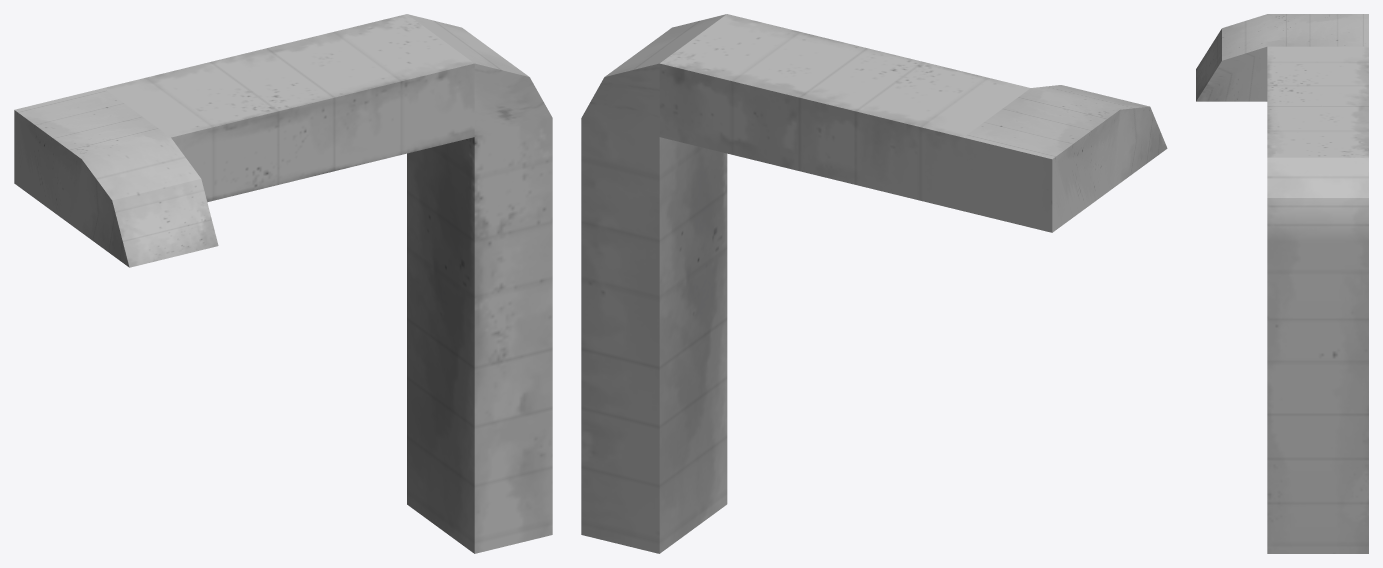
The model's file is BgMD_Tube_01_01.fbx.
3 renders of one model, left to right at view 1: azimuth 30°, elevation 25°; view 2: azimuth 150°, elevation 25°; view 3: azimuth 270°, elevation 25°, orthographic. The views are drawn at different scales.
Visible parts, largest first — view 1: pCube91; view 2: pCube91; view 3: pCube91.
Boxes of the visible parts, left/top/right/bottom form: pCube91: left=14, top=14, right=552, bottom=553; pCube91: left=581, top=14, right=1167, bottom=553; pCube91: left=1196, top=14, right=1368, bottom=553.
Size of the model in its own units: 603 by 600 by 256.
Materials: 1 (1 with a texture image).
